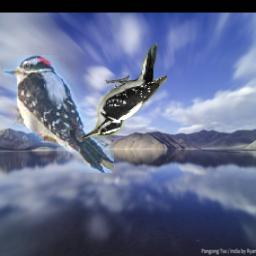Woodpecker: (3, 55, 114, 173), (81, 43, 168, 141)
